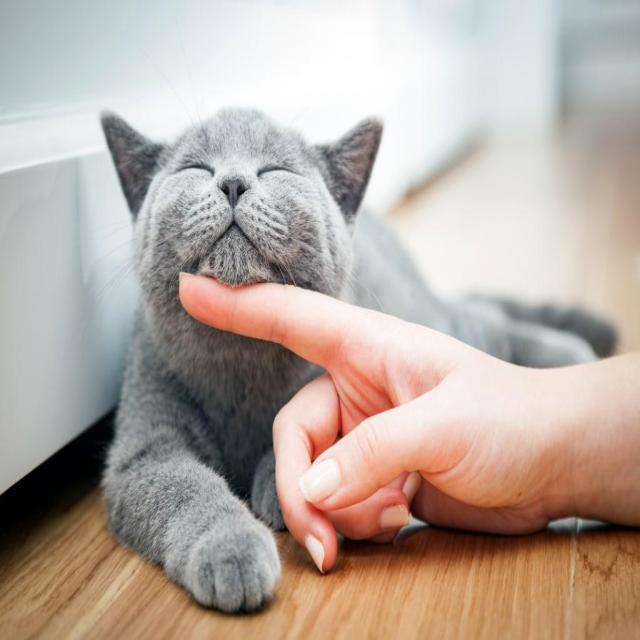Cat: (91, 92, 391, 368)
